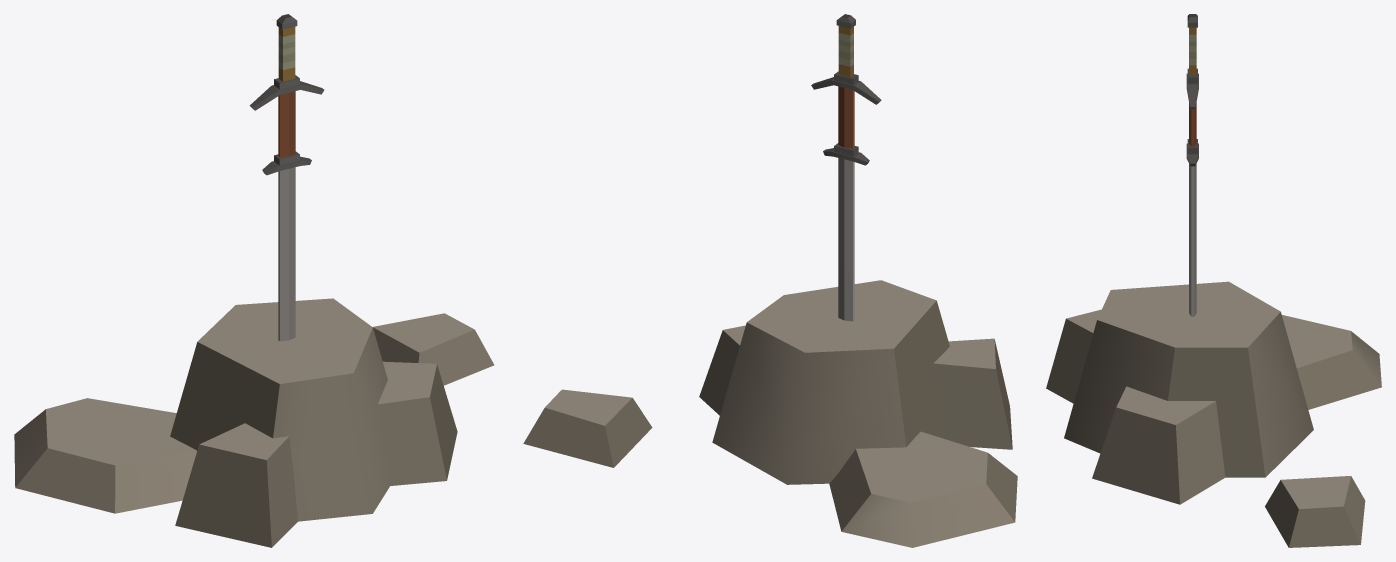
The model's file is SF_Prop_SwordInStone_01.fbx.
3 renders of one model, left to right at view 1: azimuth 30°, elevation 25°; view 2: azimuth 150°, elevation 25°; view 3: azimuth 270°, elevation 25°, orthographic. The views are drawn at different scales.
Parts seen in each view (by area): view 1: SF_Prop_SwordInStone_01; view 2: SF_Prop_SwordInStone_01; view 3: SF_Prop_SwordInStone_01.
Boxes of the visible parts, x1,y1,x2,y2 form: SF_Prop_SwordInStone_01: [14, 14, 494, 547]; SF_Prop_SwordInStone_01: [523, 14, 1017, 547]; SF_Prop_SwordInStone_01: [1046, 14, 1381, 547].
Bounding box in the file's own units: 4.01 × 3.56 × 2.6.
